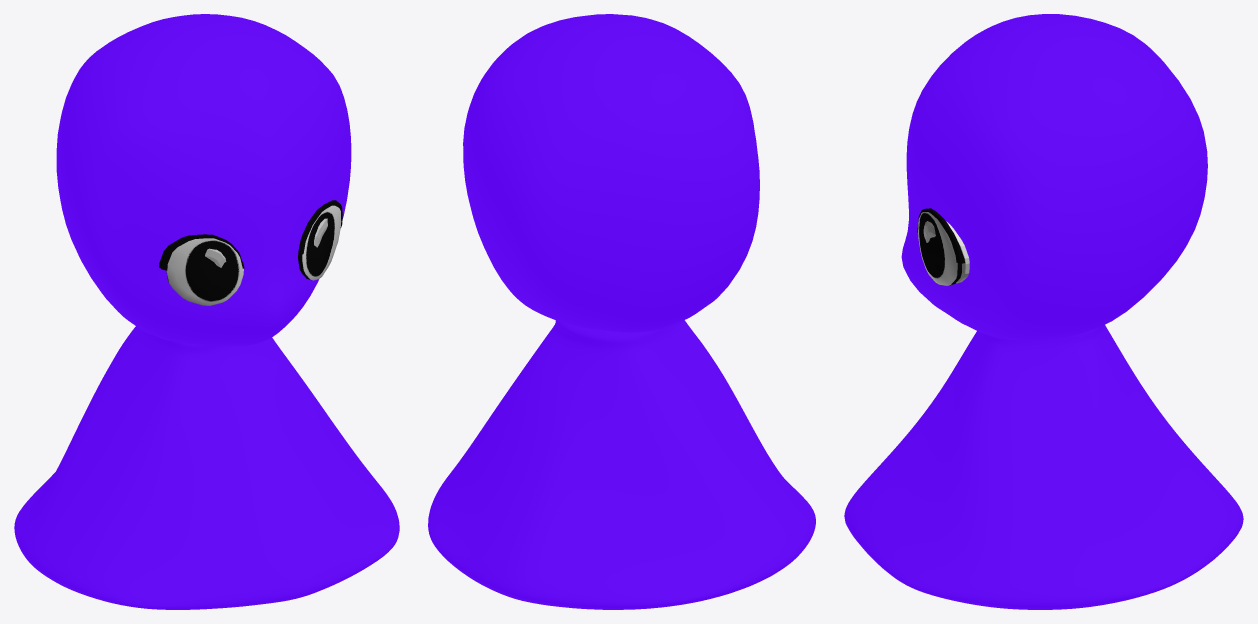
The model's file is NEwvoidcharacter.fbx.
3 views of the same model, side by side, from view 1: azimuth 30°, elevation 25°; view 2: azimuth 150°, elevation 25°; view 3: azimuth 270°, elevation 25° (orthographic).
Visible parts, largest first — view 1: Roundcube.004, Roundcube.007, eye1.010, eye1.011; view 2: Roundcube.004, Roundcube.007; view 3: Roundcube.007, Roundcube.004, eye1.011, eye1.013.
Part boxes in pixels (<box>): Roundcube.004: <box>14,326,399,609</box>; Roundcube.007: <box>56,14,351,345</box>; eye1.010: <box>159,234,244,305</box>; eye1.011: <box>298,200,342,280</box>; Roundcube.004: <box>428,320,815,609</box>; Roundcube.007: <box>463,14,759,332</box>; Roundcube.007: <box>901,14,1207,340</box>; Roundcube.004: <box>844,325,1243,609</box>; eye1.011: <box>917,208,965,285</box>; eye1.013: <box>923,221,969,283</box>.
Size of the model in its own units: 167 by 250 by 172.
